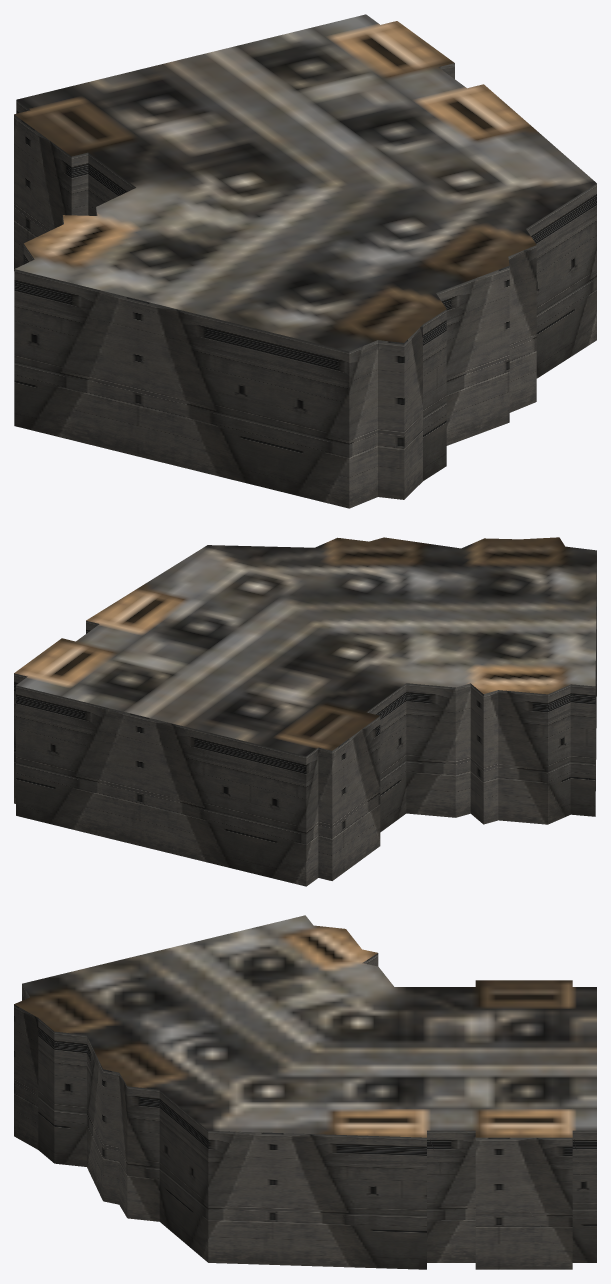
Rendered from fortress_hard_a_17.glb.
The picture shows the model from 3 angles, top to bottom: view 1: azimuth 30°, elevation 25°; view 2: azimuth 150°, elevation 25°; view 3: azimuth 270°, elevation 25°; orthographic projection. The views are drawn at different scales.
Parts seen in each view (by area): view 1: buildings/saxarba/fortress_hard/fortress_hard_a_17; view 2: buildings/saxarba/fortress_hard/fortress_hard_a_17; view 3: buildings/saxarba/fortress_hard/fortress_hard_a_17.
Boxes of the visible parts, bbox=[...] form: buildings/saxarba/fortress_hard/fortress_hard_a_17: bbox=[14, 14, 596, 508]; buildings/saxarba/fortress_hard/fortress_hard_a_17: bbox=[14, 537, 596, 886]; buildings/saxarba/fortress_hard/fortress_hard_a_17: bbox=[14, 915, 596, 1269].
Size of the model in its own units: 65 by 18 by 72.
